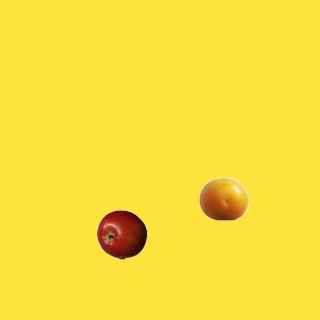Apple Braeburn: (96, 209, 146, 259)
Cherry Wax Yellow: (198, 173, 248, 223)
